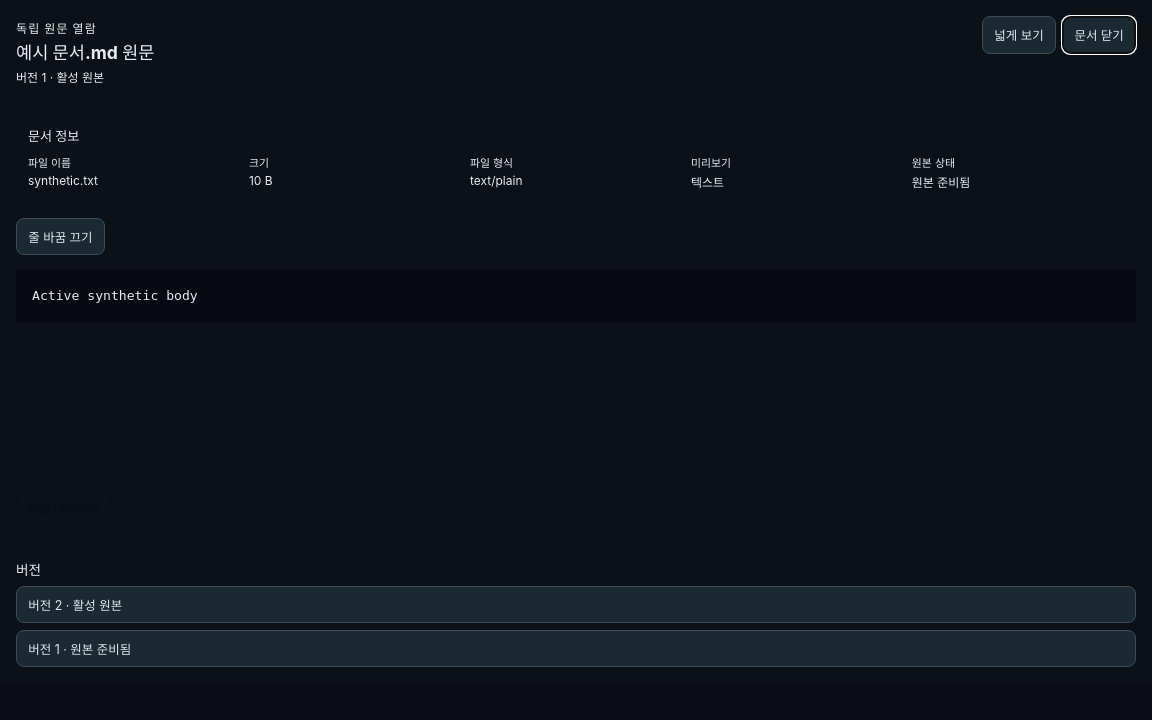
Scenario: keeps selection-only previews and version browsing without requesting evidence approval
This screenshot has width=1152, height=720.
Expected: the text "Active synthetic body" is shown, [16,268,1136,322]
Click the button "버전 1 · 원본 준비됨".
click(80, 649)  # box [16,630,1136,667]
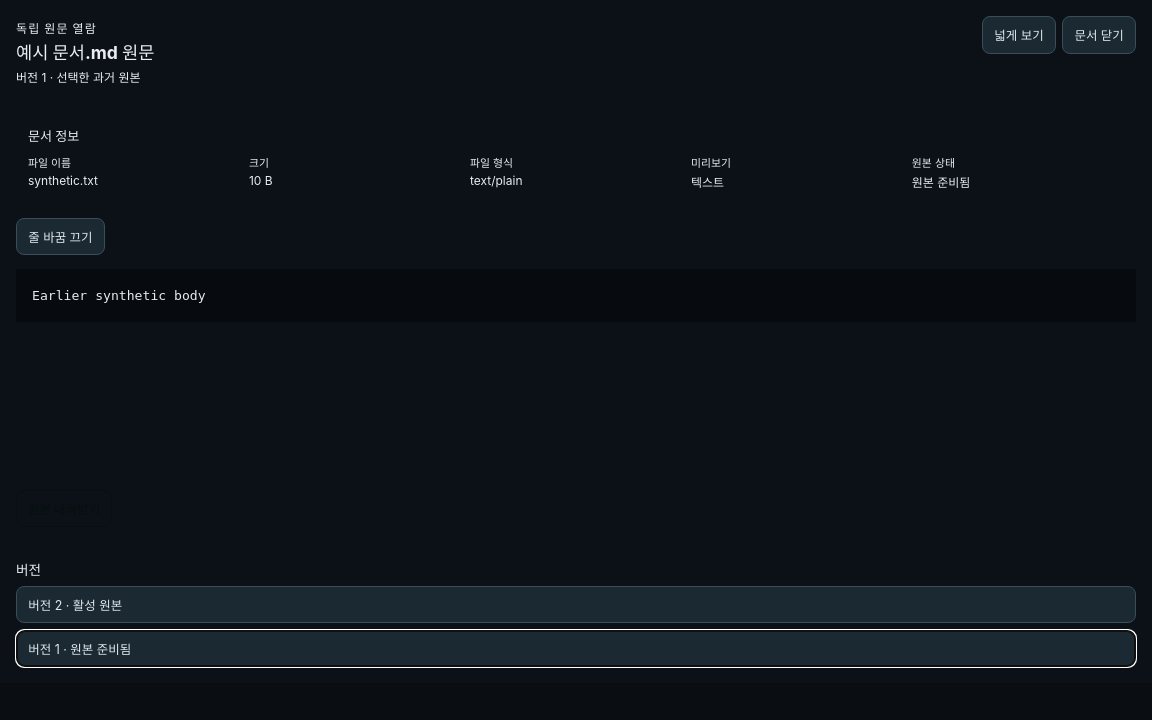
Result: the text "Earlier synthetic body" is shown at [16,268,1136,322]
